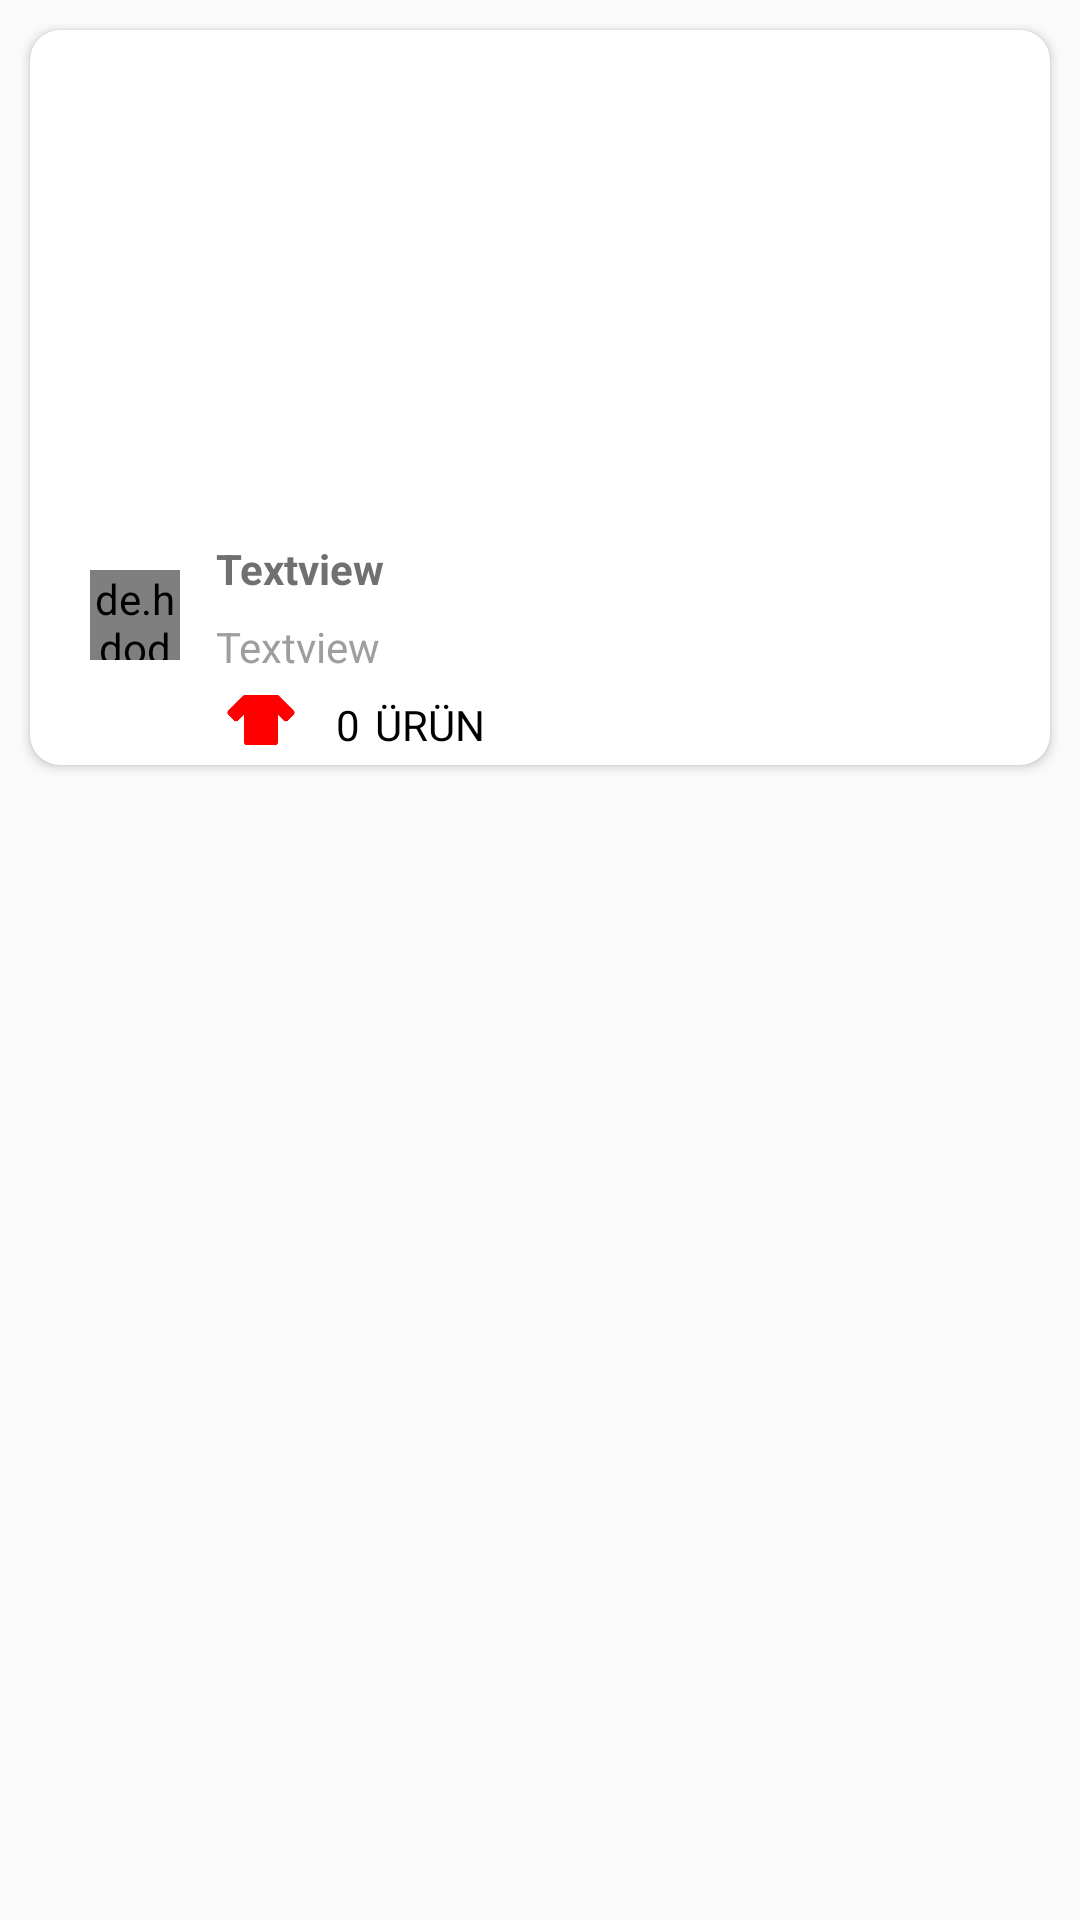

Screen size 1080px×1920px. Icon name, then its box in pixels as (x1, y1, x2, y2):
vitrinclothes: (227, 695, 295, 745)
